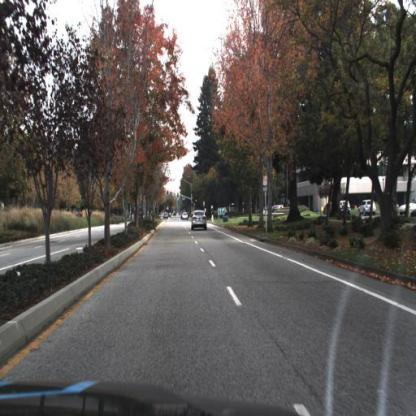car: (328, 196, 352, 218), (358, 198, 379, 219), (191, 209, 209, 231), (359, 200, 377, 217)
